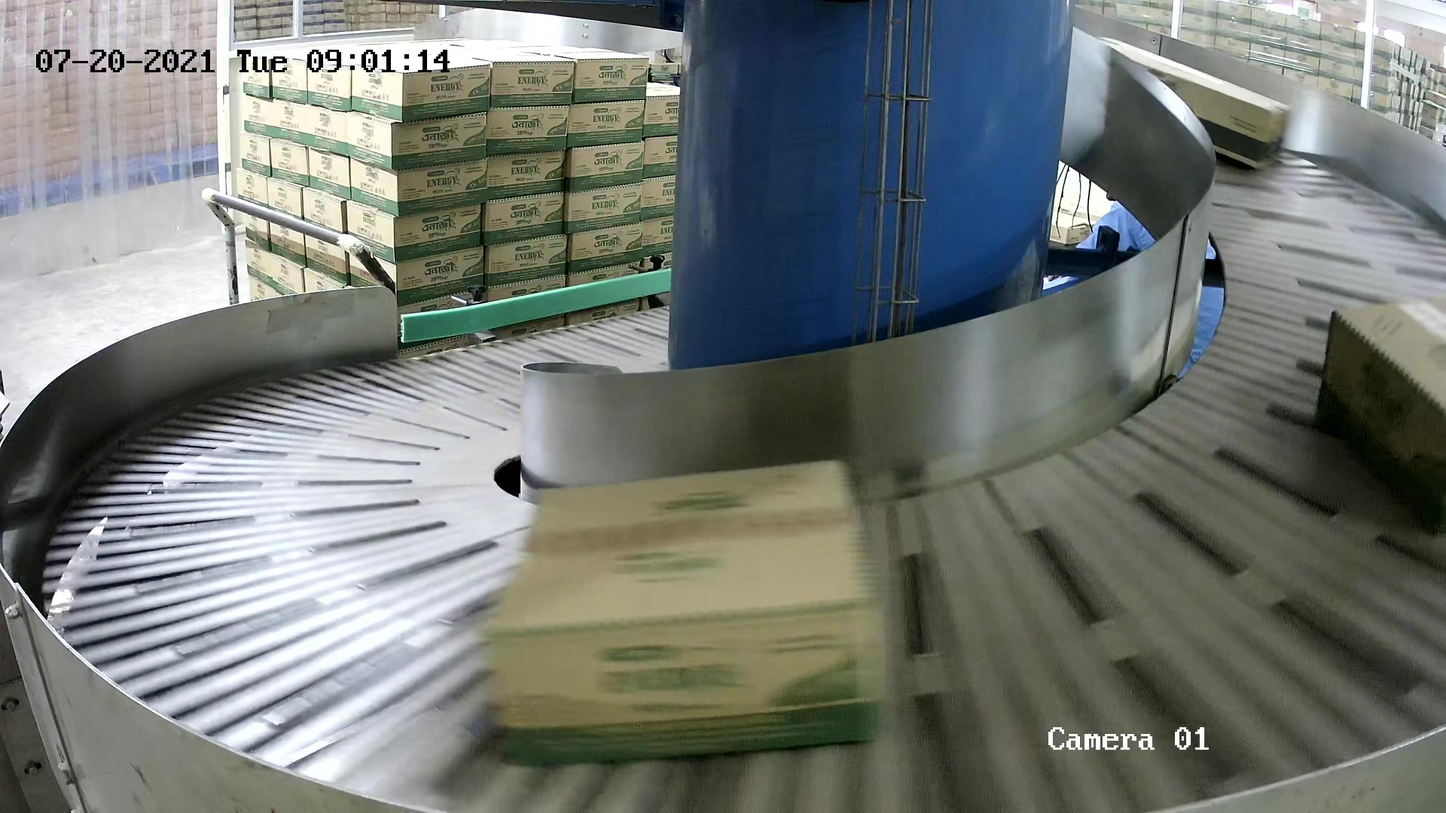Box: (482, 453, 886, 770), (1311, 294, 1446, 539), (1090, 34, 1293, 172)
